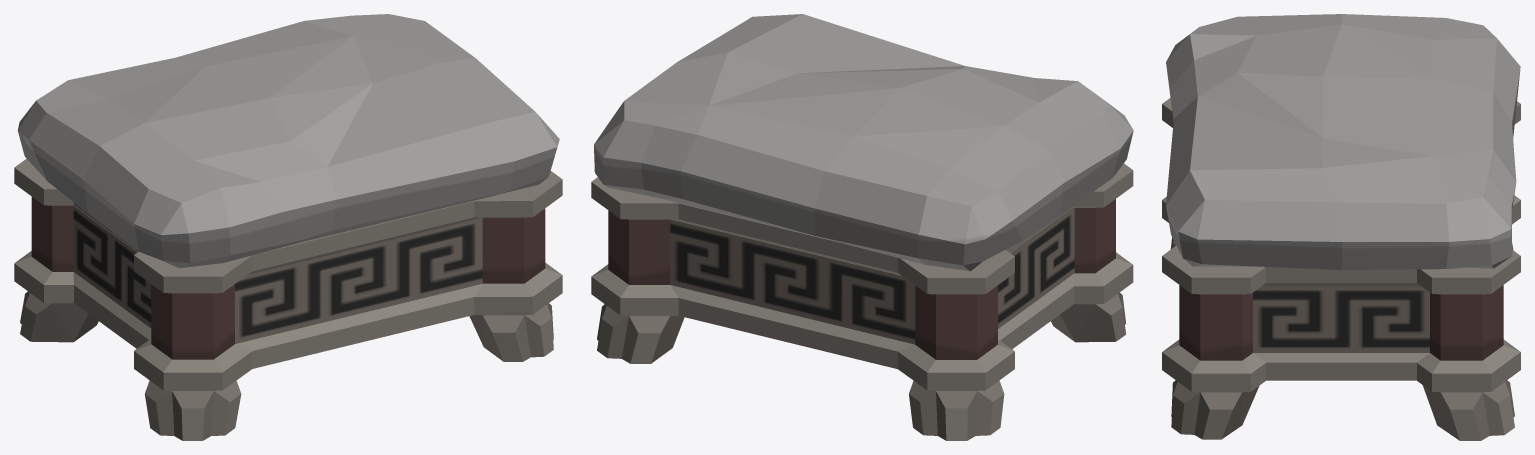
Rendered from ancient_SM_Prop_Stool_01.gltf.
3 views of the same model, side by side, from view 1: azimuth 30°, elevation 25°; view 2: azimuth 150°, elevation 25°; view 3: azimuth 270°, elevation 25° (orthographic).
Parts seen in each view (by area): view 1: SM_Prop_Stool_01; view 2: SM_Prop_Stool_01; view 3: SM_Prop_Stool_01.
Boxes of the visible parts, box(x1,y1,x2,y2) form: SM_Prop_Stool_01: box(14, 14, 562, 440); SM_Prop_Stool_01: box(591, 14, 1133, 440); SM_Prop_Stool_01: box(1162, 14, 1520, 440).
Size of the model in its own units: 0.5681 by 0.3292 by 0.4233.
Materials: 1 (1 with a texture image).
